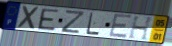E: (108, 12, 133, 39), (37, 8, 60, 32)
H: (128, 16, 155, 42)
L: (85, 11, 100, 36)
X: (17, 5, 41, 31)
Z: (60, 9, 87, 35)
